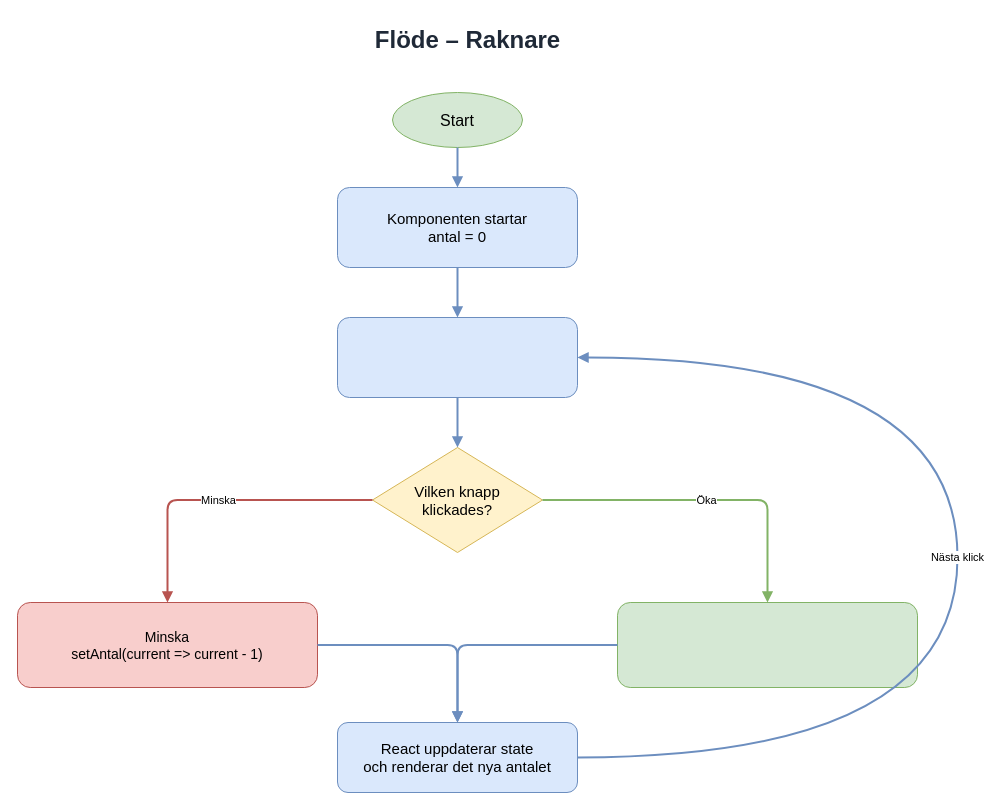
The diagram is 1001 pixels wide and 810 high, and some of its shapes have lost their labels. The shapes that lost their labels are listed below. From the top down, each one's box as (x1, y1, x2, y2) in pixels, then its label:
(336, 316, 578, 398): React visar knapparna och aktuellt antal
(616, 602, 918, 688): Öka setAntal(current => current + 1)
